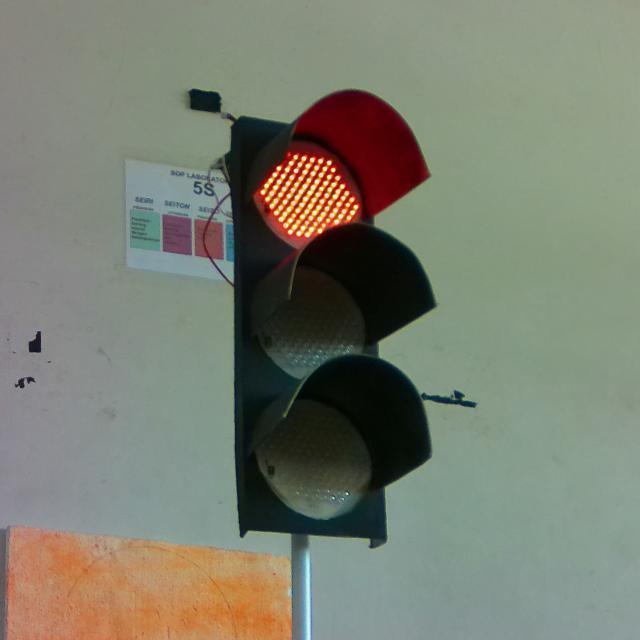red_light: (223, 88, 433, 638)
